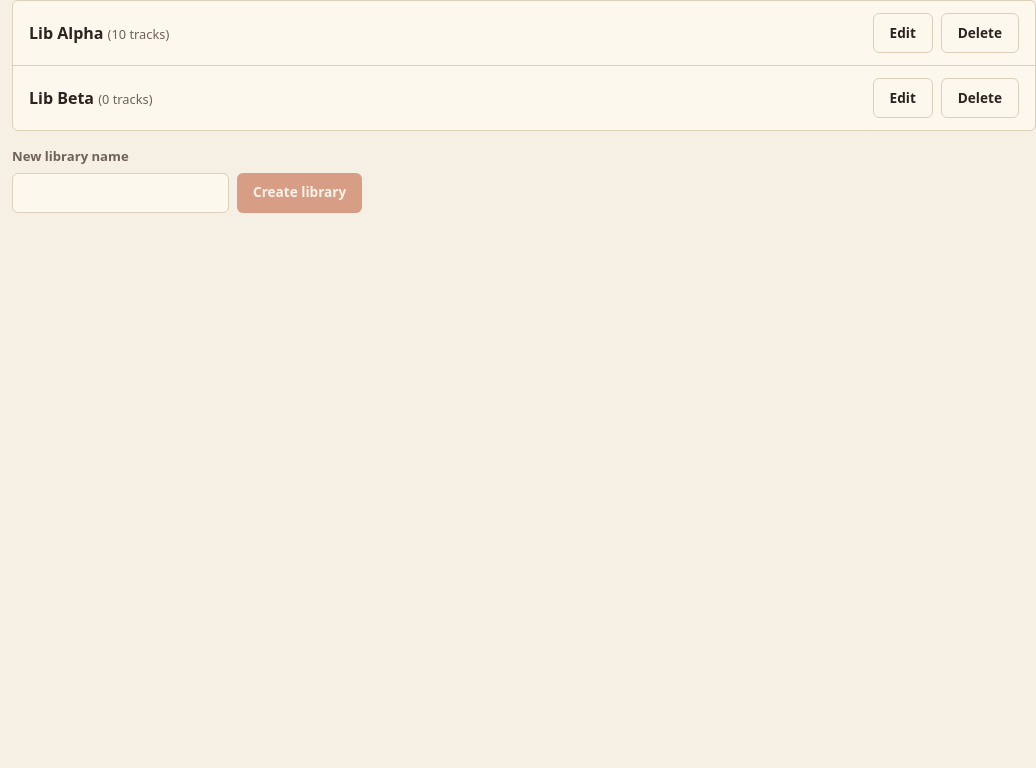
Test case: Feature: Manage libraries from the Catalog page's Libraries tab › Scenario: renaming a library › editing a row's name and saving PATCHes /api/libraries/{id} with the new name
The image size is (1036, 768).
Click the button "Edit" in the row of "Lib Alpha" at (903, 33), box [872,13,933,53]
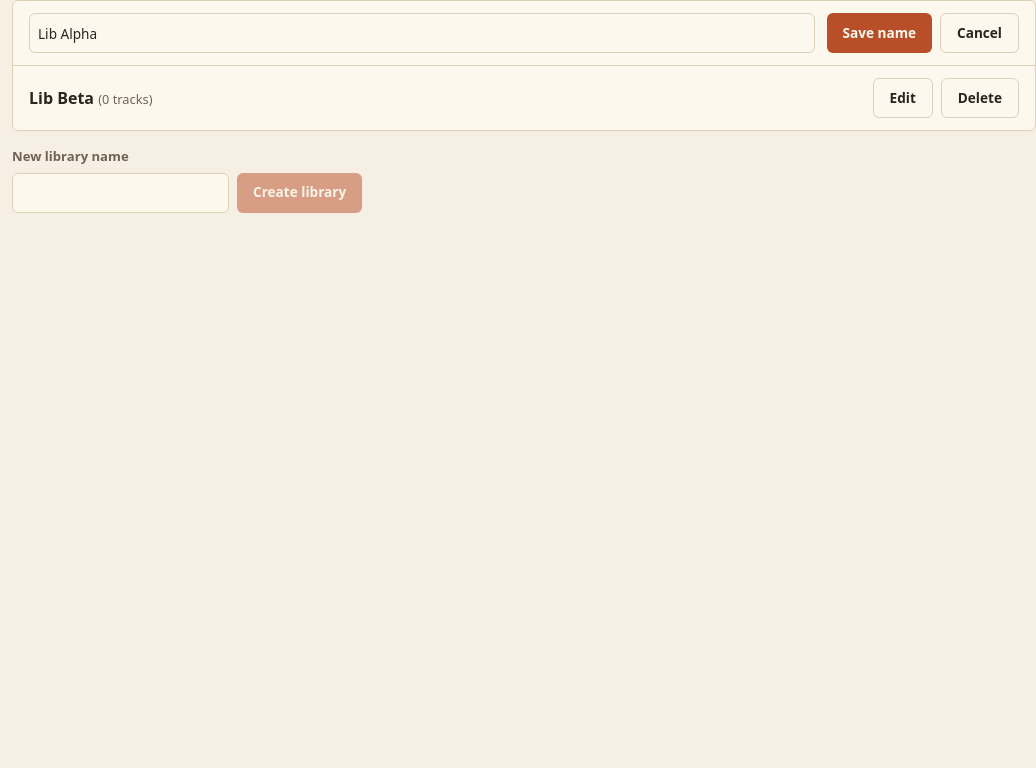
Replace the text in the field named "Library name" with "Renamed Library" at (422, 33), box [29,13,814,53]
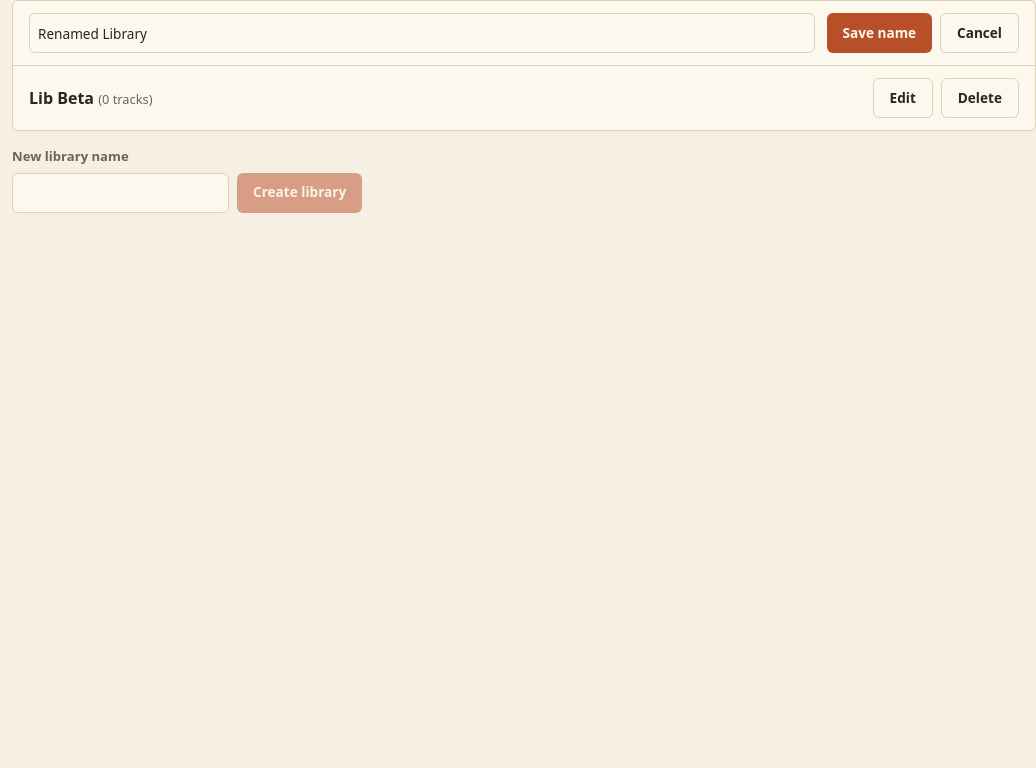
Click the button "Save name" at (879, 33), box [826,13,932,53]
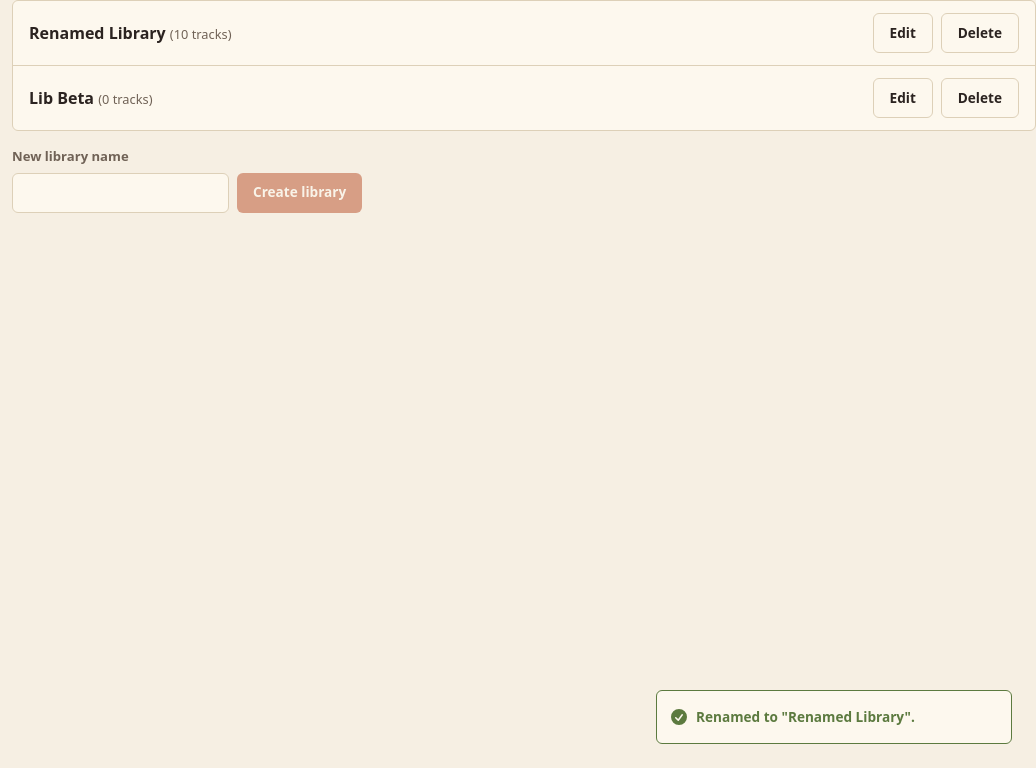
Result: the text "Renamed Library" is shown at [29,22,166,44]
